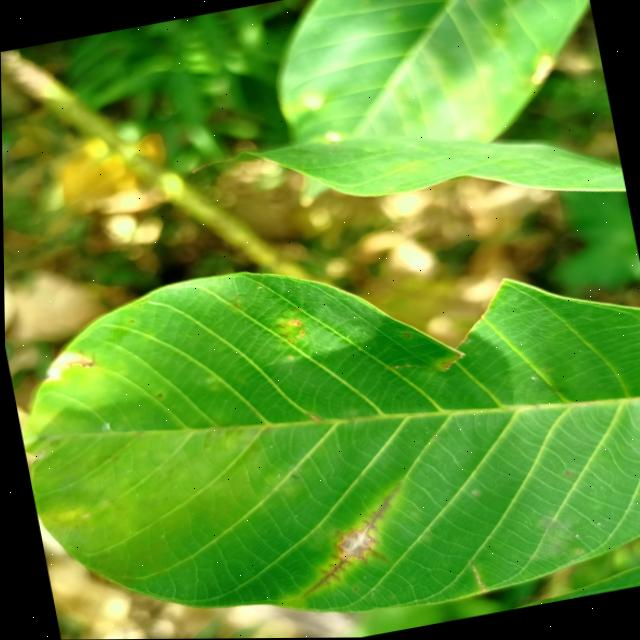Corynespora: (283, 482, 417, 597)
